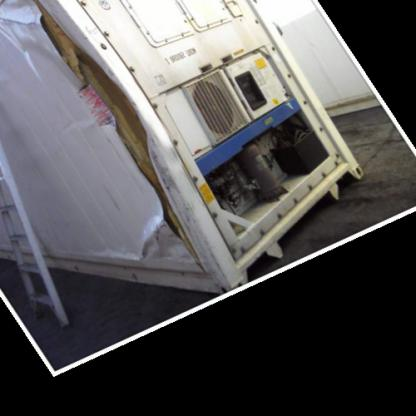Damage: (31, 16, 206, 296)
